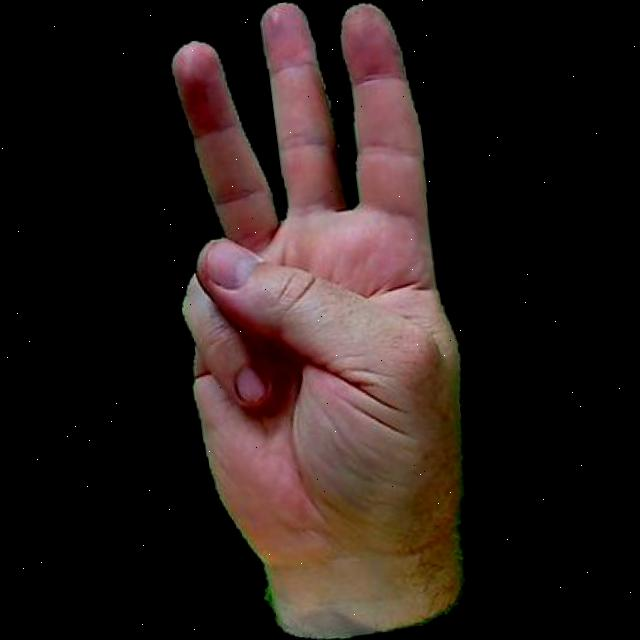w: (138, 0, 497, 640)
